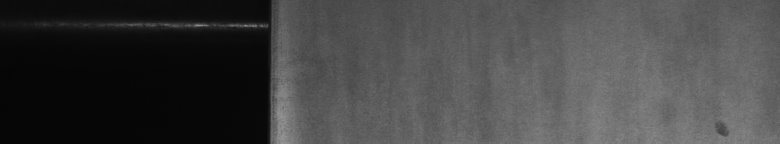fi: (713, 116, 732, 136)
